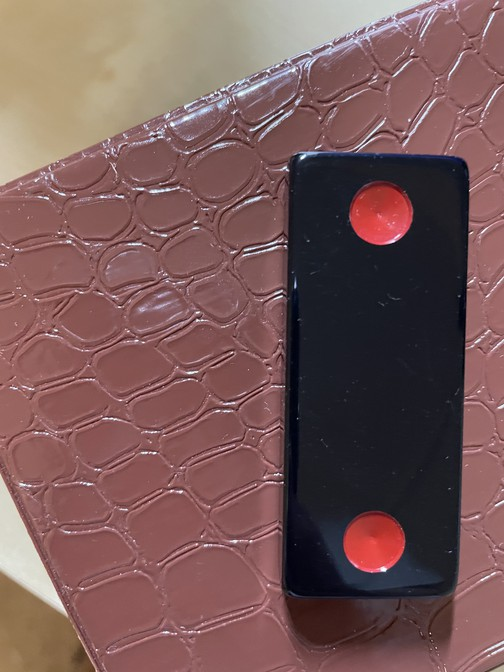earth: (283, 153, 472, 599)
